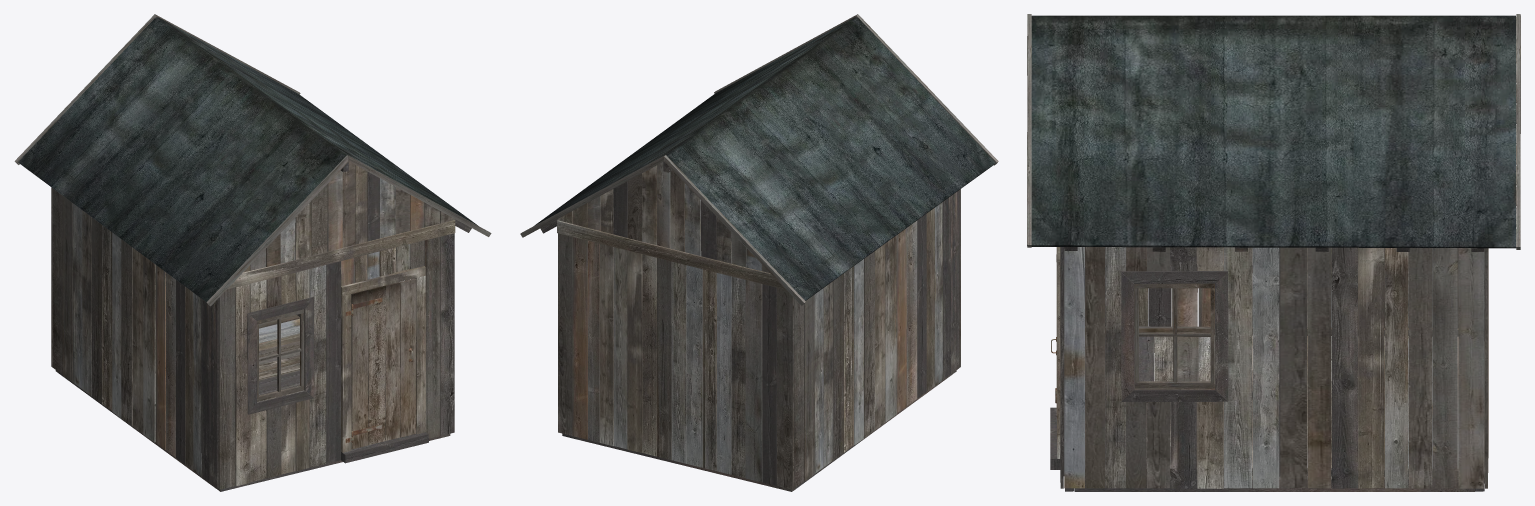
Rendered from lm-shed.glb.
3 views of the same model, side by side, from view 1: azimuth 30°, elevation 25°; view 2: azimuth 150°, elevation 25°; view 3: azimuth 270°, elevation 25° (orthographic). The views are drawn at different scales.
Parts seen in each view (by area): view 1: Base, Door; view 2: Base; view 3: Base.
Part boxes in pixels (bbox=[...]): Base: bbox=[14, 14, 491, 491]; Door: bbox=[351, 278, 416, 448]; Base: bbox=[520, 14, 998, 491]; Base: bbox=[1027, 14, 1520, 491].
Bounding box in the file's own units: 299 × 320 × 353.
Materials: 1 (1 with a texture image).
